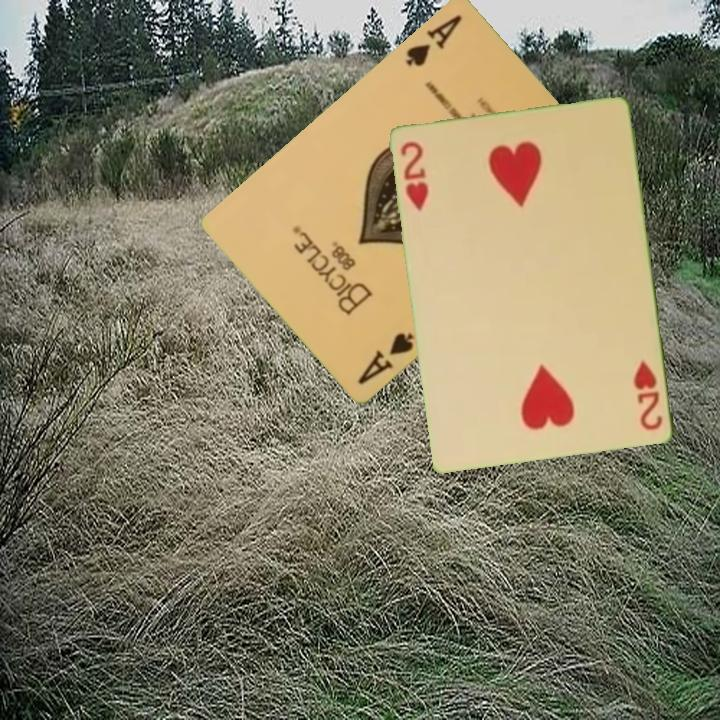2h: (631, 357, 666, 434), (397, 138, 432, 214)
As: (354, 329, 417, 388), (402, 11, 465, 70)
